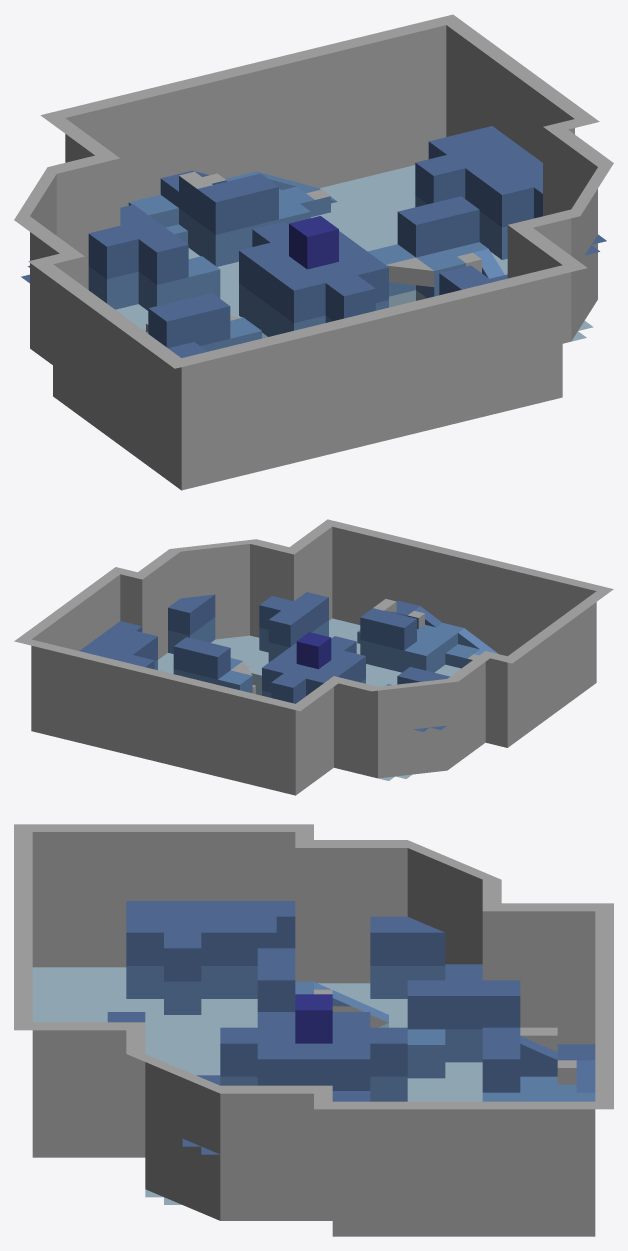
File: Tower_Map_Remade.fbx
The picture shows the model from 3 angles, top to bottom: view 1: azimuth 30°, elevation 25°; view 2: azimuth 150°, elevation 25°; view 3: azimuth 270°, elevation 25°; orthographic projection. The views are drawn at different scales.
Parts seen in each view (by area): view 1: polySurface266, polySurface268, polySurface286, polySurface284, polySurface265, polySurface42, polySurface270, polySurface121, polySurface197, polySurface287, polySurface49, polySurface280 (+21 smaller); view 2: polySurface268, polySurface266, polySurface286, polySurface270, polySurface274, polySurface287, polySurface276, polySurface272, polySurface284, polySurface280, polySurface179, polySurface265 (+16 smaller); view 3: polySurface284, polySurface286, polySurface287, polySurface280, polySurface272, polySurface270, polySurface171, polySurface276, polySurface265, polySurface274, polySurface197, polySurface199 (+27 smaller).
Part boxes in pixels (x1,y1,x2,y2): polySurface266: [166, 261, 587, 490]; polySurface268: [40, 14, 461, 207]; polySurface286: [37, 264, 181, 490]; polySurface284: [446, 21, 590, 162]; polySurface265: [239, 231, 388, 336]; polySurface42: [428, 126, 542, 259]; polySurface270: [48, 118, 120, 289]; polySurface121: [197, 173, 278, 266]; polySurface197: [120, 204, 188, 310]; polySurface287: [507, 209, 579, 343]; polySurface49: [397, 196, 479, 257]; polySurface280: [543, 123, 613, 216]; polySurface268: [14, 637, 306, 795]; polySurface266: [321, 519, 613, 656]; polySurface286: [507, 591, 607, 747]; polySurface270: [295, 676, 377, 795]; polySurface274: [372, 679, 457, 778]; polySurface287: [250, 524, 332, 637]; polySurface276: [170, 539, 255, 639]; polySurface272: [447, 651, 496, 770]; polySurface284: [20, 571, 120, 650]; polySurface280: [131, 549, 180, 659]; polySurface179: [360, 608, 416, 672]; polySurface265: [262, 642, 365, 697]; polySurface284: [332, 1101, 595, 1236]; polySurface286: [32, 824, 295, 967]; polySurface287: [32, 1022, 145, 1157]; polySurface280: [220, 1085, 332, 1220]; polySurface272: [295, 840, 407, 983]; polySurface270: [482, 879, 595, 1044]; polySurface171: [126, 901, 276, 998]; polySurface276: [127, 1054, 220, 1220]; polySurface265: [257, 1012, 370, 1090]; polySurface274: [407, 840, 500, 964]; polySurface197: [407, 980, 520, 1062]; polySurface199: [370, 916, 445, 998].
Size of what is drawn, in the model's own units: 110 by 30.43 by 98.21.
